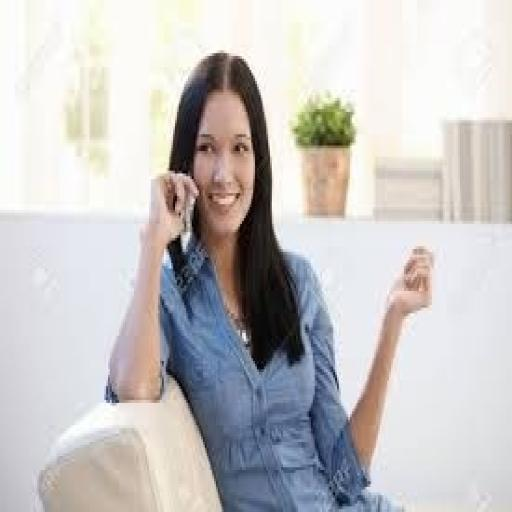calling: (102, 48, 438, 509)
